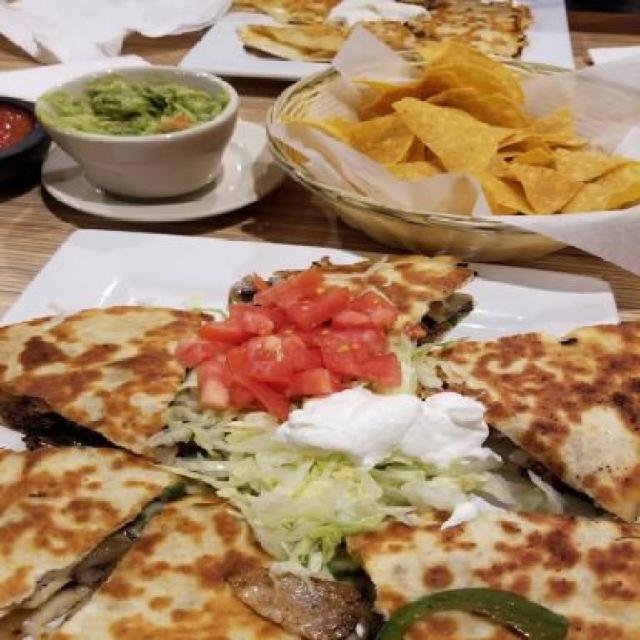chicken quesadilla: (4, 247, 639, 639), (209, 3, 551, 60)
guacamole: (39, 68, 241, 183)
nachos: (287, 50, 640, 226)
